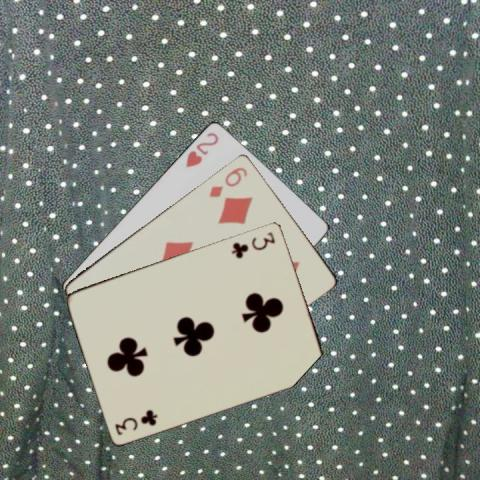2h: (182, 129, 220, 169)
3c: (228, 229, 276, 260), (112, 407, 159, 436)
6d: (206, 163, 249, 199)
